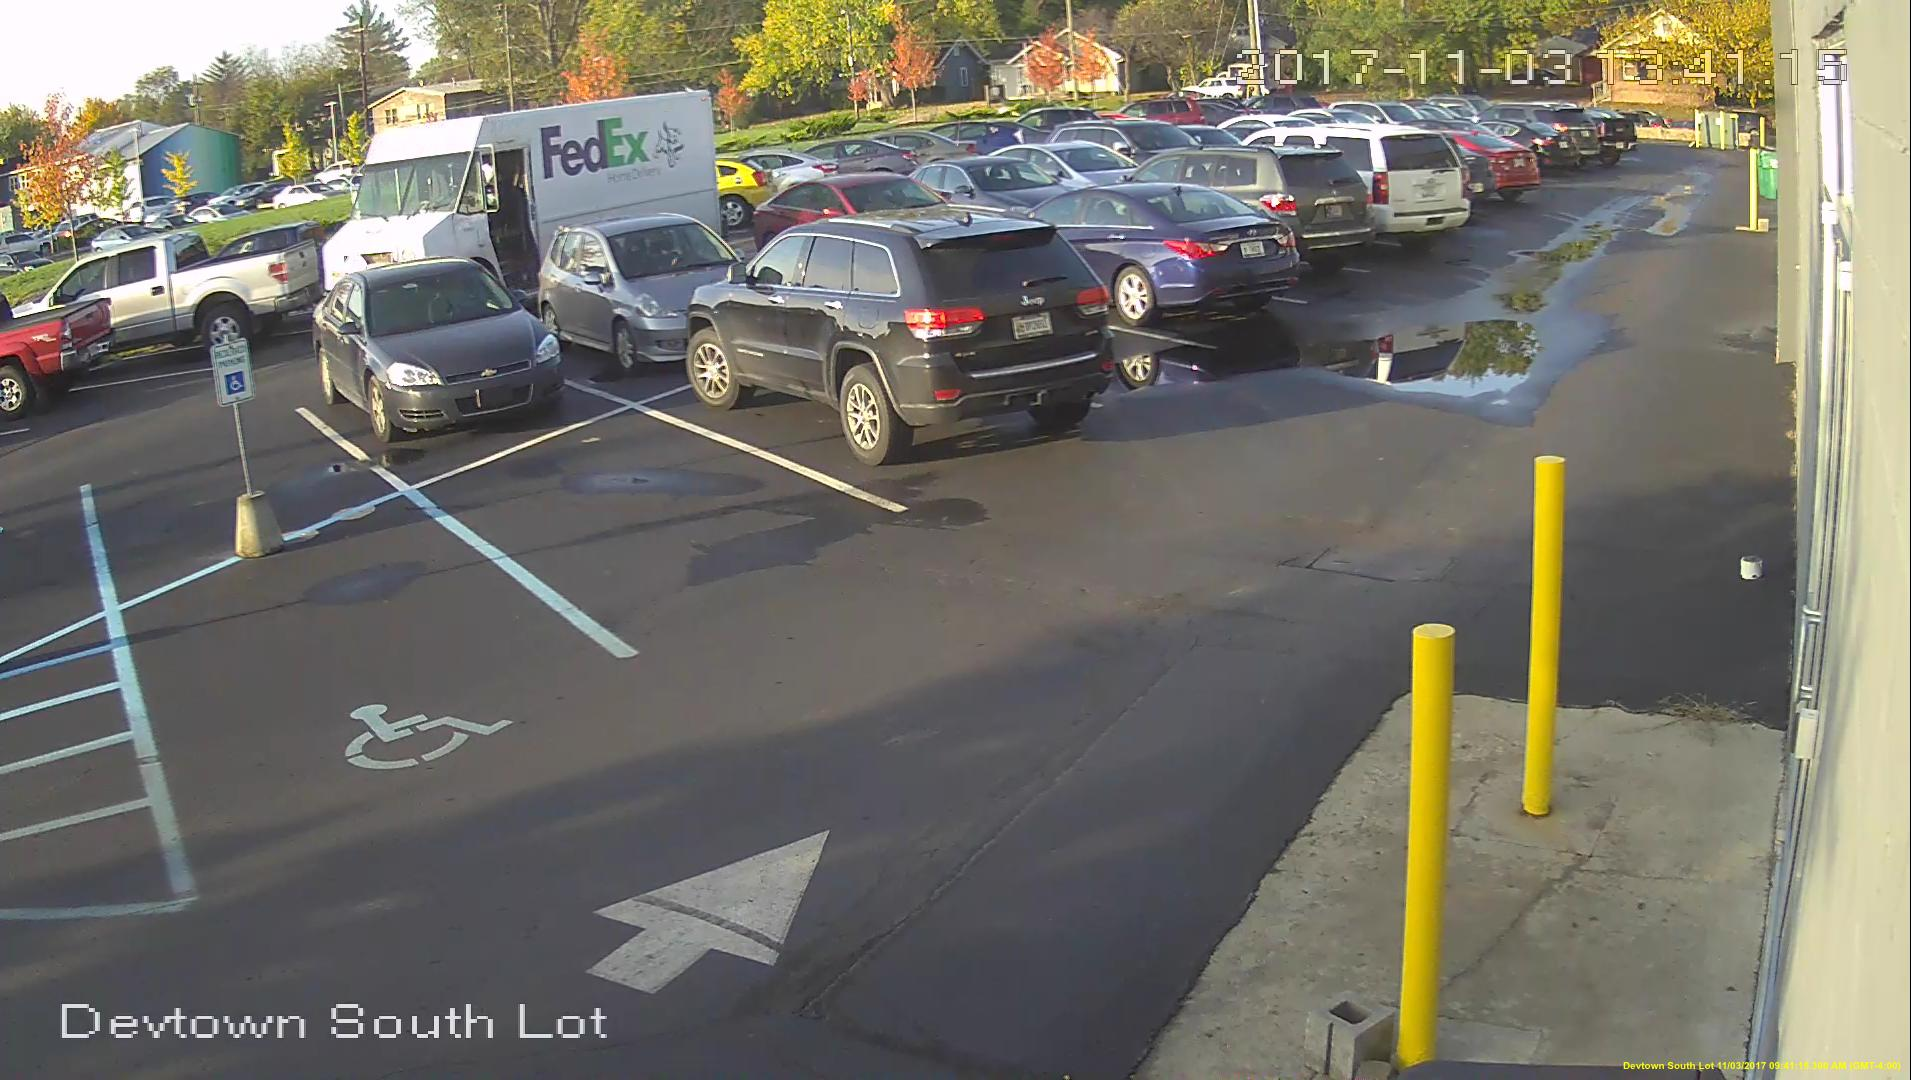fedex_truck: (310, 84, 731, 304)
